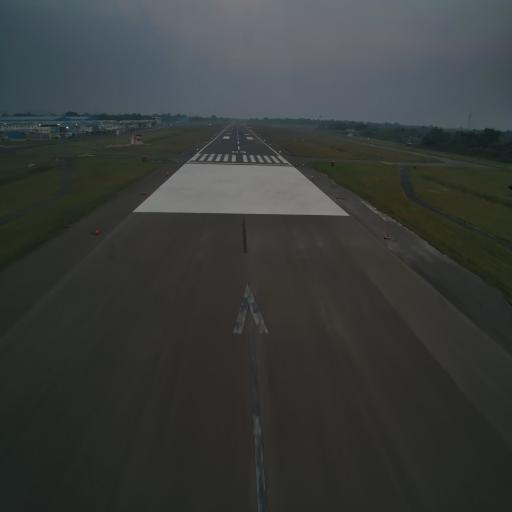on: (94, 228, 100, 238), (383, 231, 387, 238), (310, 174, 314, 180), (142, 190, 146, 196), (335, 193, 338, 200), (166, 169, 169, 176)
